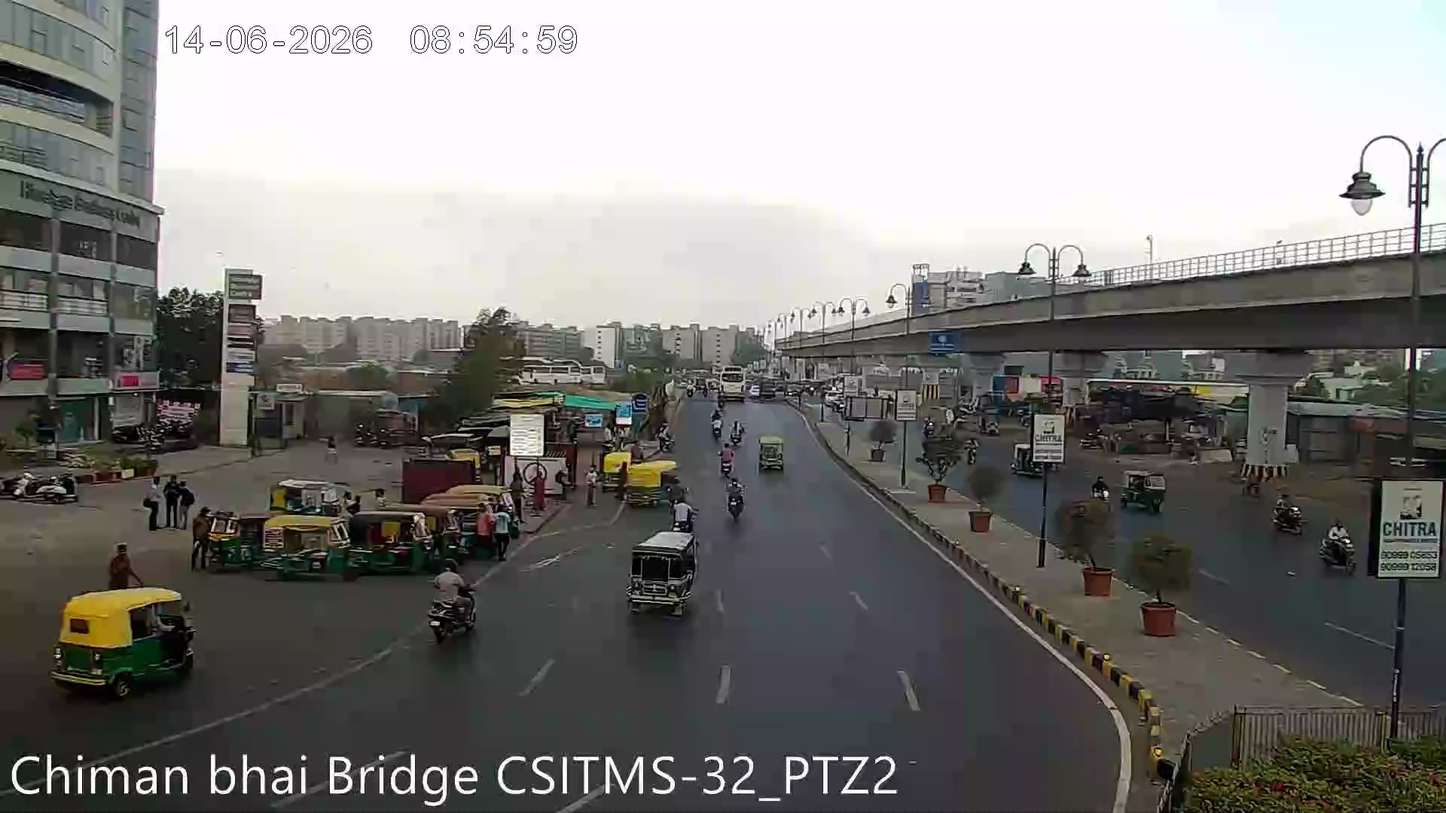auto_rickshaw: (48, 582, 199, 693), (415, 480, 518, 559), (334, 506, 435, 575), (259, 509, 356, 578), (625, 529, 698, 617), (189, 504, 271, 572), (1119, 463, 1169, 513), (620, 459, 674, 505), (1270, 488, 1306, 535), (1009, 440, 1043, 477), (756, 433, 787, 473)
pedestrian: (144, 468, 198, 531), (162, 468, 197, 531), (140, 468, 165, 531), (583, 462, 599, 508)
two_wheeler: (423, 561, 482, 643), (1, 461, 80, 504), (1317, 515, 1358, 573), (1271, 488, 1306, 536), (722, 471, 749, 526), (670, 485, 698, 533), (720, 446, 739, 483), (1090, 470, 1111, 503), (964, 433, 981, 466), (709, 405, 725, 439), (731, 416, 745, 445)
